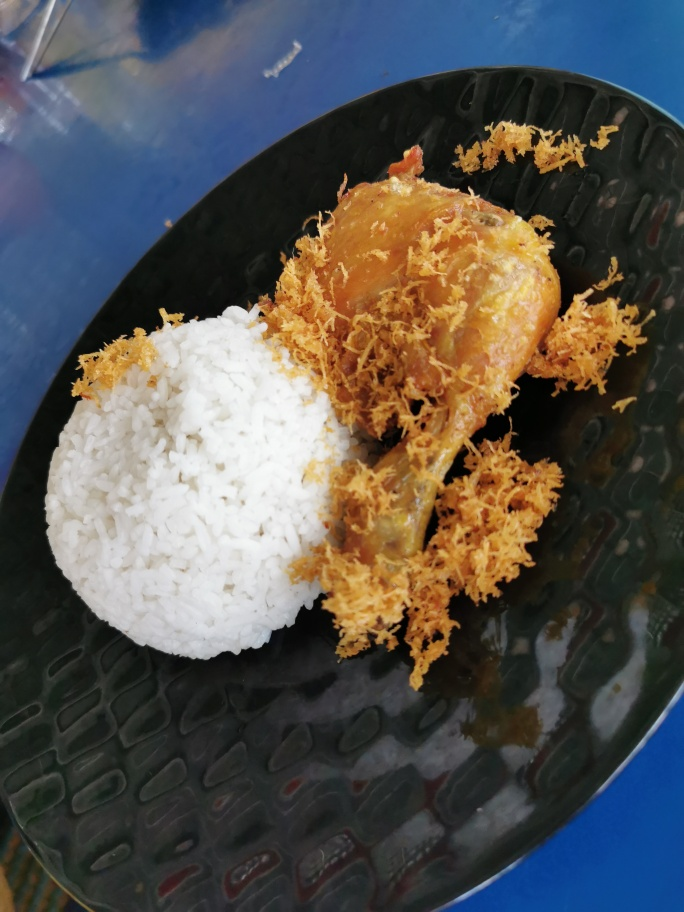ayam goreng: (265, 149, 564, 650)
nasi putih: (50, 285, 385, 689)
